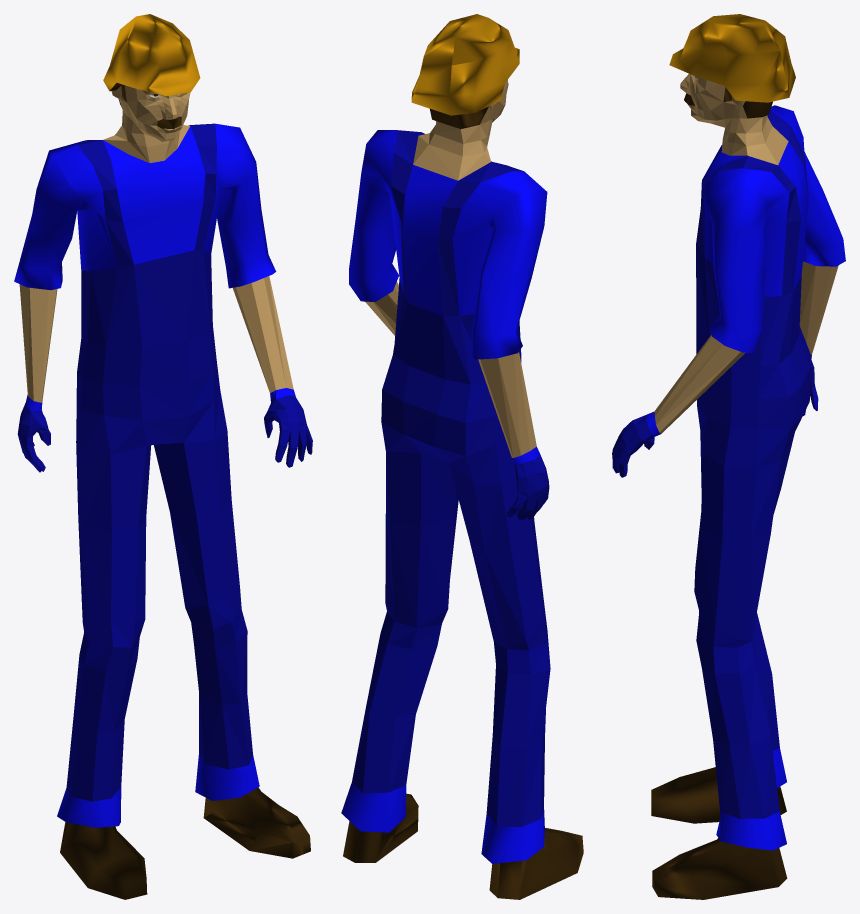
File: controller.dae
3 renders of one model, left to right at view 1: azimuth 30°, elevation 25°; view 2: azimuth 150°, elevation 25°; view 3: azimuth 270°, elevation 25°, orthographic. The views are drawn at different scales.
Parts seen in each view (by area): view 1: skin_Coord_Material__6__Surf, polymsh7_Pts_Material__4__Surf, skin_Coord_Material__2__Surf, skin_Coord_Material__3__Surf, skin_Coord_Material__5__Surf; view 2: skin_Coord_Material__6__Surf, polymsh7_Pts_Material__4__Surf, skin_Coord_Material__2__Surf, skin_Coord_Material__5__Surf, skin_Coord_Material__3__Surf; view 3: skin_Coord_Material__6__Surf, polymsh7_Pts_Material__4__Surf, skin_Coord_Material__3__Surf, skin_Coord_Material__2__Surf, skin_Coord_Material__5__Surf.
Boxes of the visible parts, bbox=[...] form: skin_Coord_Material__6__Surf: bbox=[17, 123, 312, 801]; polymsh7_Pts_Material__4__Surf: bbox=[14, 123, 295, 827]; skin_Coord_Material__2__Surf: bbox=[19, 85, 293, 402]; skin_Coord_Material__3__Surf: bbox=[60, 82, 310, 899]; skin_Coord_Material__5__Surf: bbox=[103, 14, 200, 96]; skin_Coord_Material__6__Surf: bbox=[352, 130, 550, 826]; polymsh7_Pts_Material__4__Surf: bbox=[341, 130, 547, 863]; skin_Coord_Material__2__Surf: bbox=[365, 80, 536, 457]; skin_Coord_Material__5__Surf: bbox=[411, 14, 519, 115]; skin_Coord_Material__3__Surf: bbox=[343, 106, 583, 899]; skin_Coord_Material__6__Surf: bbox=[612, 110, 818, 818]; polymsh7_Pts_Material__4__Surf: bbox=[646, 105, 845, 850]; skin_Coord_Material__3__Surf: bbox=[651, 77, 787, 899]; skin_Coord_Material__2__Surf: bbox=[654, 74, 838, 433]; skin_Coord_Material__5__Surf: bbox=[669, 14, 795, 102].
Bounding box in the file's own units: 6.16 × 21.23 × 5.49.
